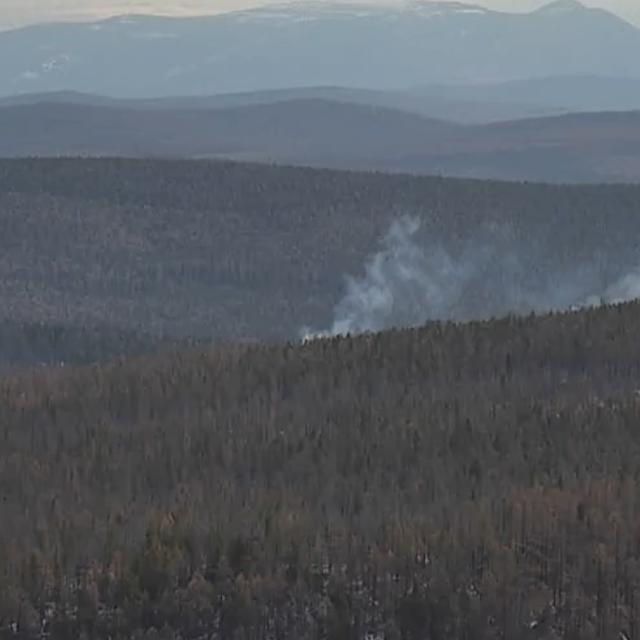Smoke: (287, 217, 640, 346)
